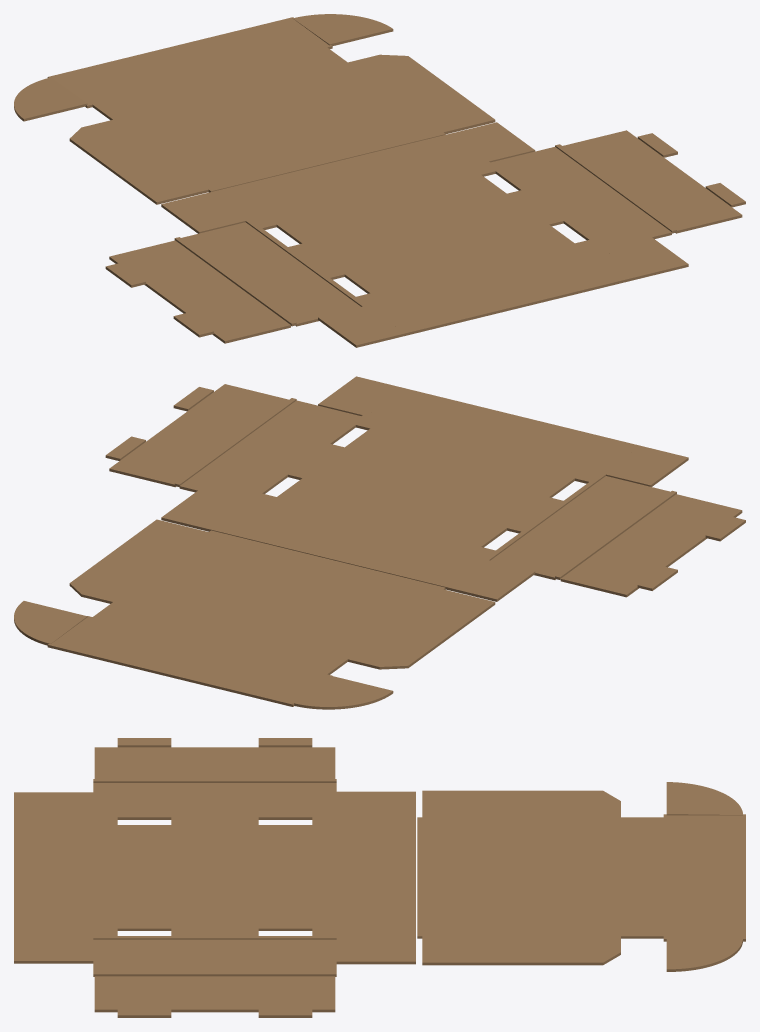
The model's file is mailer.glb.
3 renders of one model, top to bottom at view 1: azimuth 30°, elevation 25°; view 2: azimuth 150°, elevation 25°; view 3: azimuth 270°, elevation 25°, orthographic. The views are drawn at different scales.
Visible parts, largest first — view 1: Tampa, Base, FlapTampa, ParedeFrente, ParedeTras, RollIntE, RollIntD, RollExtE, RollExtD, AbaTampaE, AbaTampaD, AbaFrenteD (+7 smaller); view 2: Tampa, Base, FlapTampa, ParedeTras, ParedeFrente, RollIntE, RollIntD, RollExtE, RollExtD, AbaTampaE, AbaTampaD, BarbatanaE (+7 smaller); view 3: Base, Tampa, FlapTampa, ParedeTras, ParedeFrente, RollIntD, RollExtD, RollExtE, RollIntE, AbaTampaD, AbaTampaE, AbaFrenteE (+11 smaller).
Part boxes in pixels (x1,y1,x2,y2): Tampa: (92, 47, 445, 192); Base: (245, 161, 605, 306); FlapTampa: (47, 17, 332, 108); ParedeFrente: (367, 248, 639, 335); ParedeTras: (210, 134, 485, 220); RollIntE: (109, 240, 290, 343); RollIntD: (563, 130, 742, 233); RollExtE: (181, 222, 360, 326); RollExtD: (490, 147, 671, 246); AbaTampaE: (69, 119, 212, 204); AbaTampaD: (343, 54, 495, 134); AbaFrenteD: (318, 305, 404, 347); Tampa: (93, 530, 445, 674); Base: (246, 415, 605, 560); FlapTampa: (47, 616, 332, 706); ParedeTras: (210, 501, 485, 589); ParedeFrente: (367, 388, 639, 473); RollIntE: (560, 494, 742, 597); RollIntD: (109, 384, 288, 487); RollExtE: (490, 476, 670, 579); RollExtD: (179, 400, 360, 500); AbaTampaE: (343, 589, 495, 669); AbaTampaD: (69, 519, 212, 603); BarbatanaE: (293, 675, 393, 709); Base: (93, 815, 336, 939); Tampa: (417, 817, 663, 938); FlapTampa: (663, 814, 745, 941); ParedeTras: (336, 816, 415, 936); ParedeFrente: (14, 817, 93, 936); RollIntD: (94, 976, 335, 1012); RollExtD: (93, 939, 336, 971); RollExtE: (93, 783, 336, 814); RollIntE: (94, 747, 335, 778); AbaTampaD: (422, 933, 620, 965); AbaTampaE: (422, 790, 620, 819); AbaFrenteE: (14, 936, 93, 963).
Bounding box in the file's own units: 0.674 × 0.00621 × 0.752.
